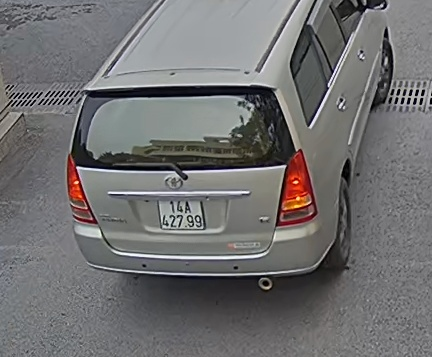vehicle plate: (156, 192, 206, 235)
